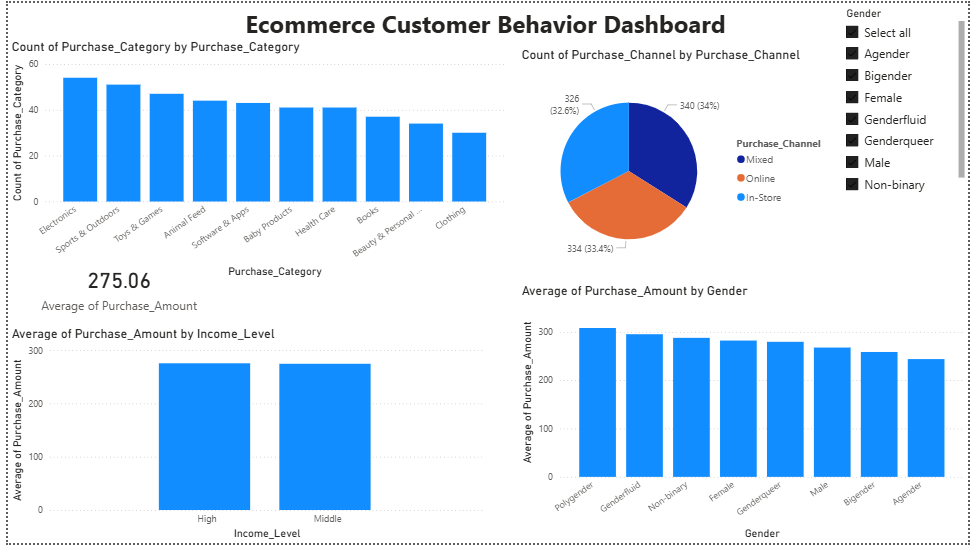

Layout of this report page (visuals, bound fields, positions):
{"tool":"powerbi","page":{"name":"Page 1","canvas":[1280,720],"ordinal":0},"visuals":[{"type":"clusteredColumnChart","fields":{"Category":["Ecommerce_Consumer_Behavior.Purchase_Category"],"Y":["CountNonNull(Ecommerce_Consumer_Behavior.Purchase_Category)"]},"box":[0,48.6,680,334.3],"z":0},{"type":"card","fields":{"Values":["Avg(Ecommerce_Consumer_Behavior.Purchase_Amount)"]},"box":[215,335,228.3,71.7],"z":1},{"type":"clusteredColumnChart","fields":{"Category":["Ecommerce_Consumer_Behavior.Gender"],"Y":["Avg(Ecommerce_Consumer_Behavior.Purchase_Amount)"]},"box":[680,372.5,600,347.5],"z":2},{"type":"clusteredColumnChart","fields":{"Category":["Ecommerce_Consumer_Behavior.Income_Level"],"Y":["Avg(Ecommerce_Consumer_Behavior.Purchase_Amount)"]},"box":[0,400,540,320],"z":3},{"type":"pieChart","fields":{"Category":["Ecommerce_Consumer_Behavior.Purchase_Channel"],"Y":["CountNonNull(Ecommerce_Consumer_Behavior.Purchase_Channel)"]},"box":[680,57.5,425,312.5],"z":4},{"type":"textbox","box":[0,0,1280,48.6],"z":5},{"type":"slicer","fields":{"Values":["Ecommerce_Consumer_Behavior.Gender"]},"box":[1105,0,175,262.5],"z":6}]}

Visuals, with their boxes in screenshot pixels (x1, y1, x2, y2), scaled from the page's 1280x720 canvas onto the 978x549 screenshot:
clusteredColumnChart - Ecommerce_Consumer_Behavior.Purchase_Category x CountNonNull(Ecommerce_Consumer_Behavior.Purchase_Category): 0 37 520 292
card - Avg(Ecommerce_Consumer_Behavior.Purchase_Amount): 164 255 339 310
clusteredColumnChart - Ecommerce_Consumer_Behavior.Gender x Avg(Ecommerce_Consumer_Behavior.Purchase_Amount): 520 284 977 548
clusteredColumnChart - Ecommerce_Consumer_Behavior.Income_Level x Avg(Ecommerce_Consumer_Behavior.Purchase_Amount): 0 305 413 548
pieChart - Ecommerce_Consumer_Behavior.Purchase_Channel x CountNonNull(Ecommerce_Consumer_Behavior.Purchase_Channel): 520 44 844 282
textbox: 0 0 977 37
slicer - Ecommerce_Consumer_Behavior.Gender: 844 0 977 200
